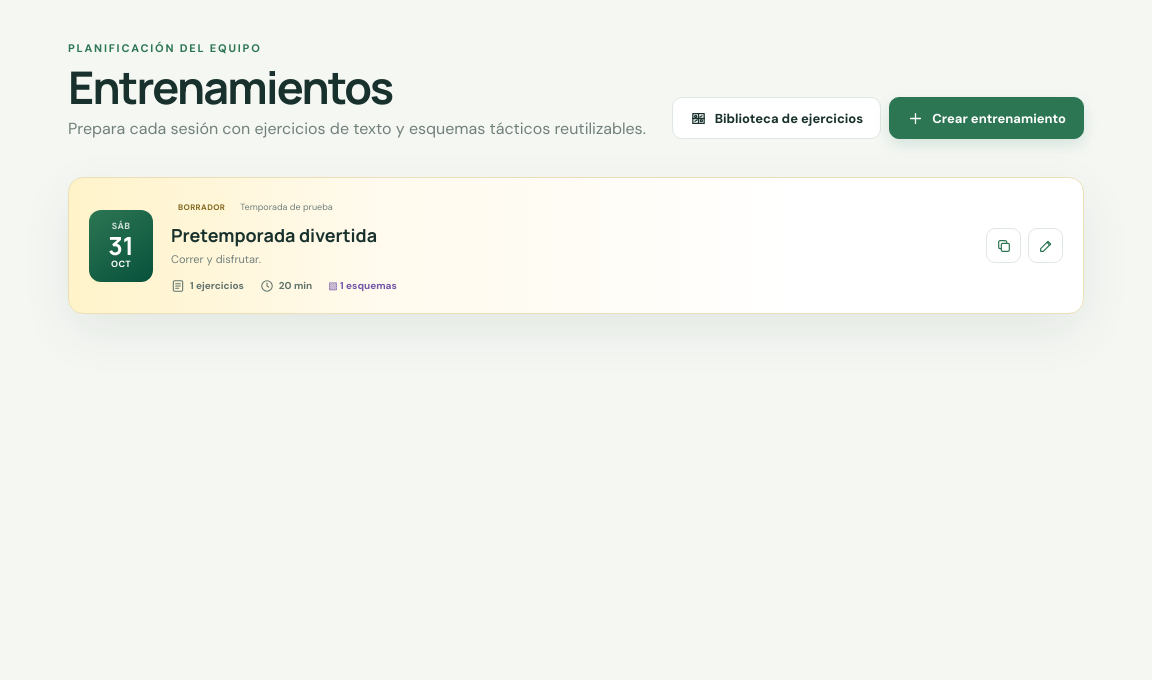
Scenario: training plan reading view › saves and reuses a predefined exercise with its preview
What coordinates should you click on to do the following:
click the button named "Editar entrenamiento Pretemporada divertida"
I would click on:
 (1046, 246)
Its box is left=1028, top=228, right=1063, bottom=263.
(page scrolled)
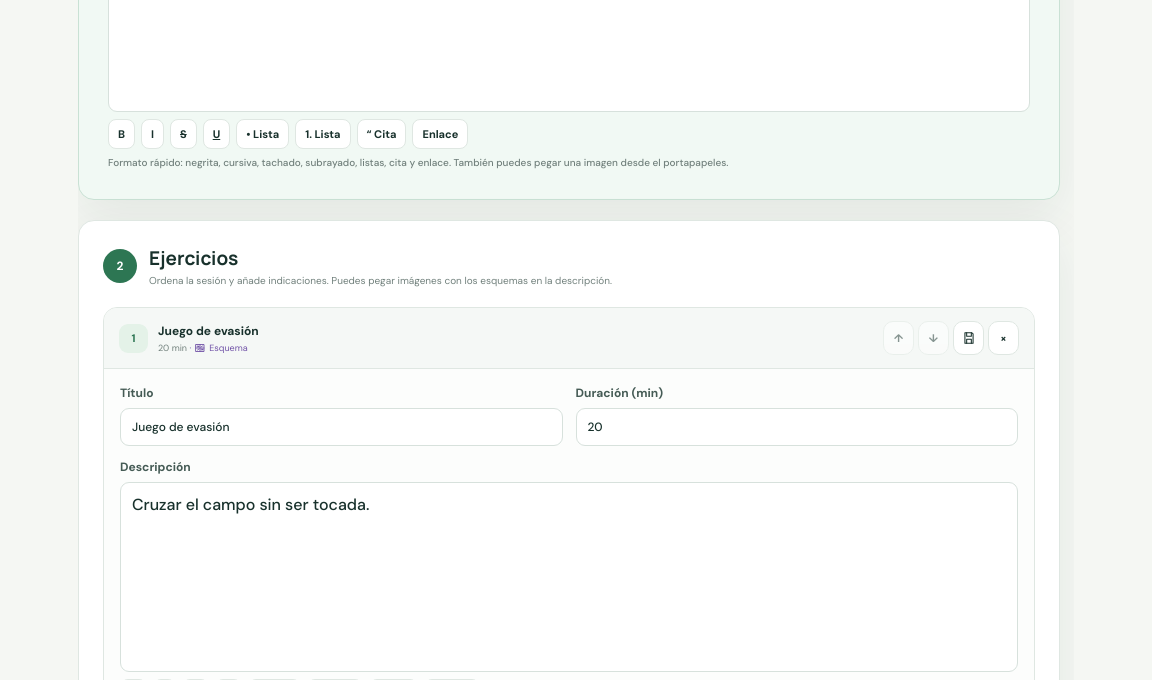
What coordinates should you click on to do the following:
click the button named "Guardar Juego de evasión como predefinido"
I would click on:
 (968, 338)
Its box is left=953, top=321, right=984, bottom=355.
(page scrolled)
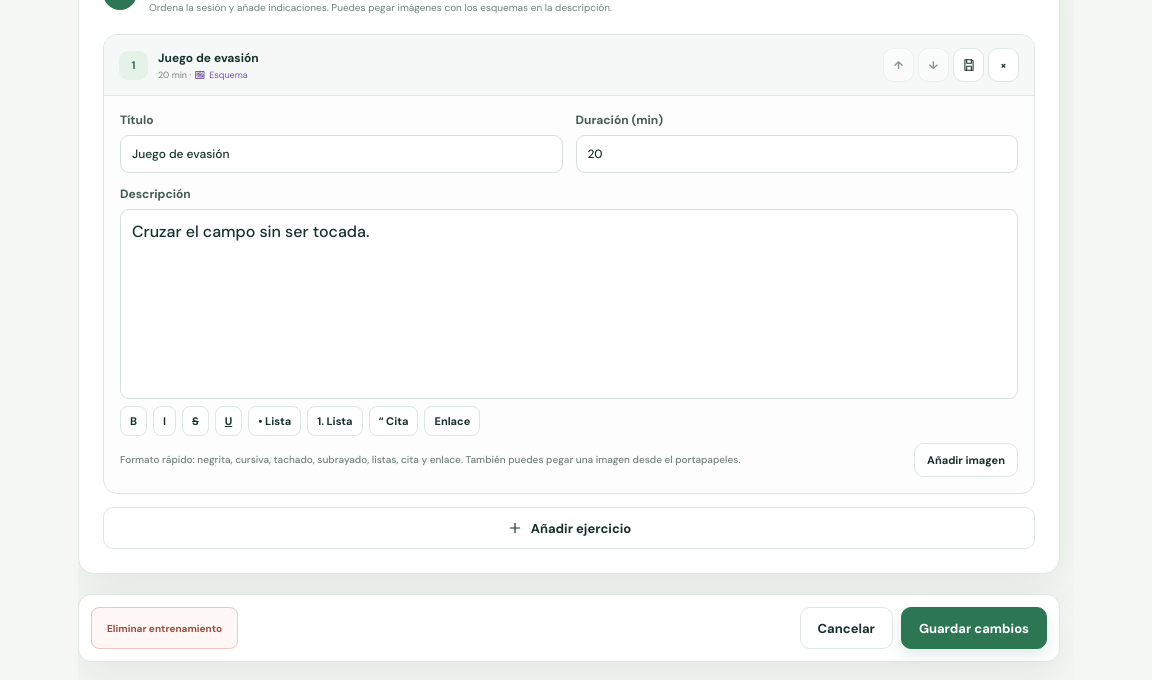
What coordinates should you click on to do the following:
click the button "Añadir ejercicio"
I would click on:
 (569, 528)
Its box is left=103, top=507, right=1035, bottom=549.
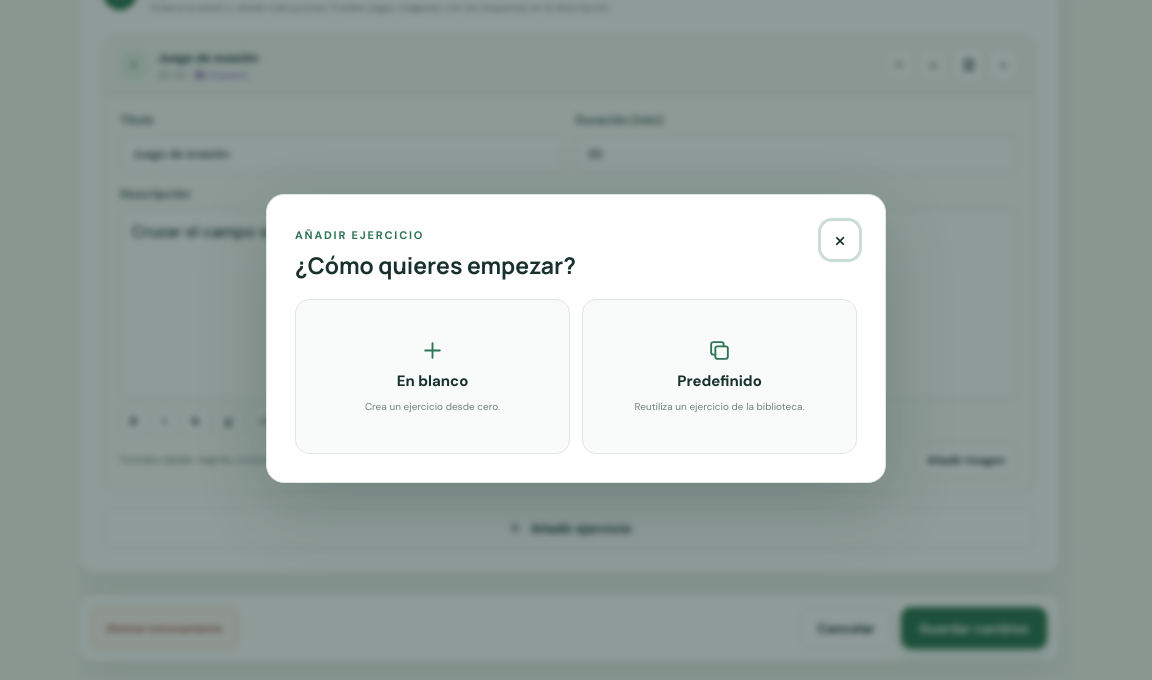
What coordinates should you click on to do the following:
click the button "Predefinido Reutiliza un ejercicio de la biblioteca."
I would click on:
 (720, 376)
Its box is left=582, top=298, right=857, bottom=454.
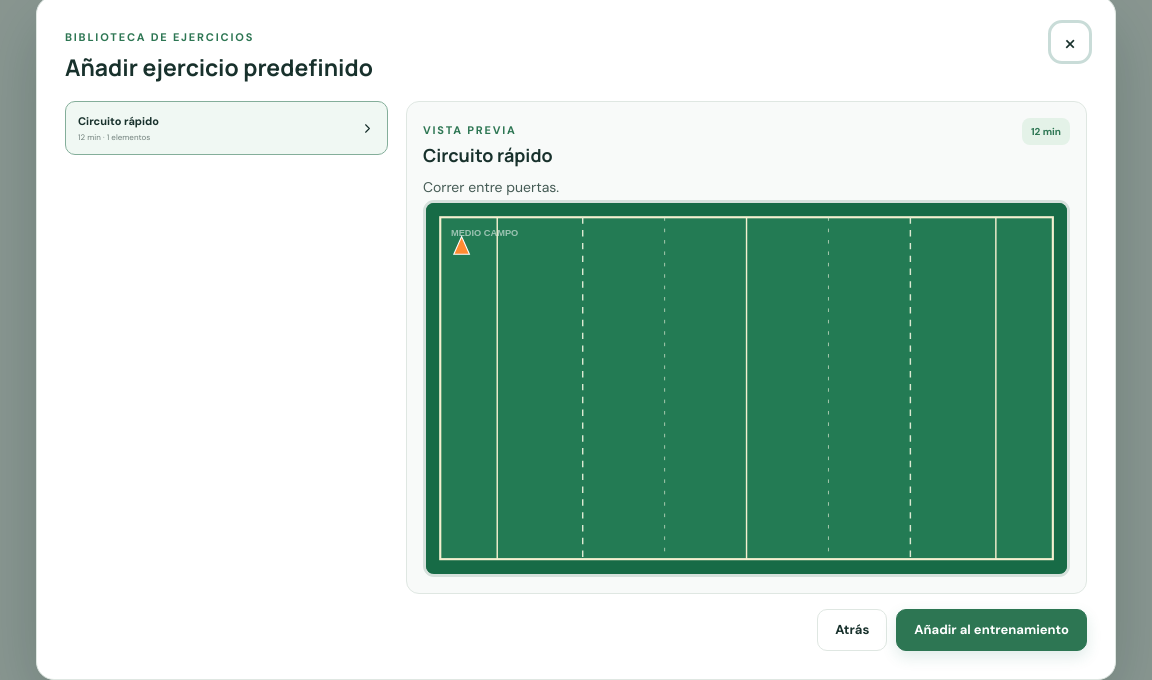
Now the picture named "Vista previa de Circuito rápido" is shown, box left=423, top=200, right=1070, bottom=577
What coordinates should you click on to do the following:
click the button "Añadir al entrenamiento"
I would click on:
 (992, 630)
Its box is left=896, top=609, right=1087, bottom=651.
(page scrolled)
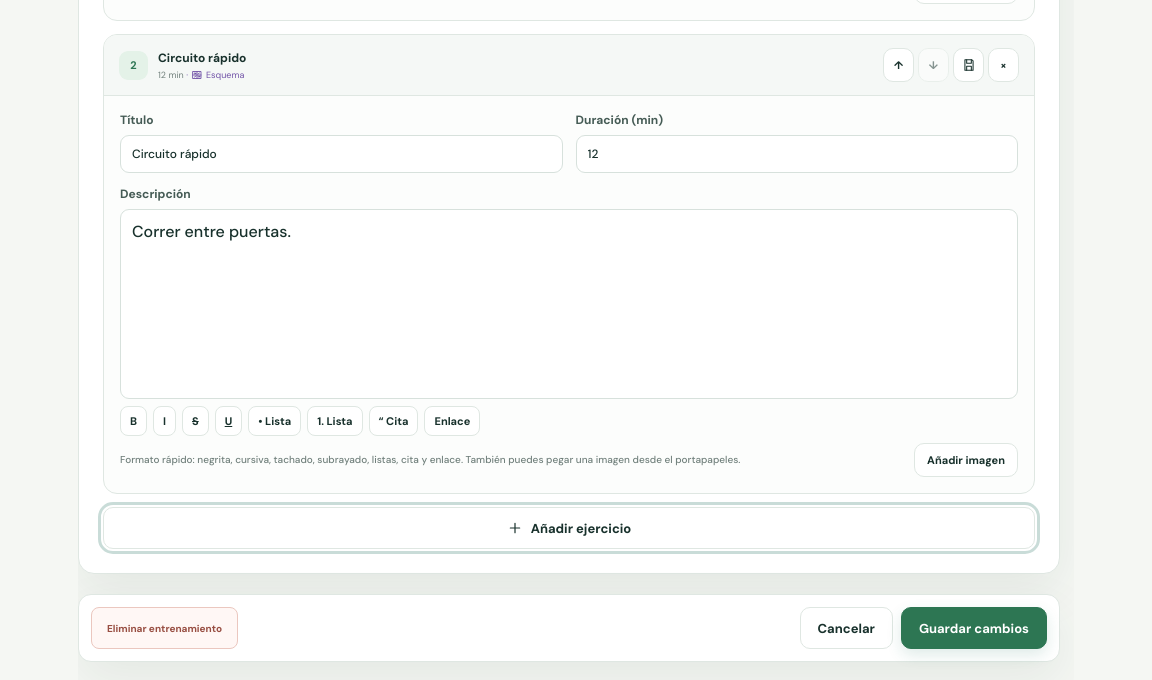
Now the field named "Descripción" reads "Correr entre puertas.", box left=120, top=209, right=1018, bottom=399
Now the field showing "Circuito rápido" is shown, box left=120, top=135, right=562, bottom=173
